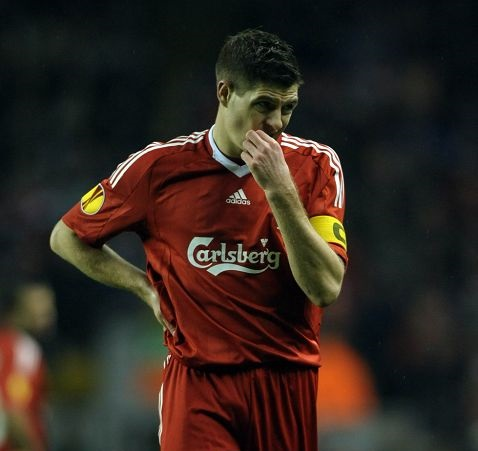face: (231, 76, 297, 153)
